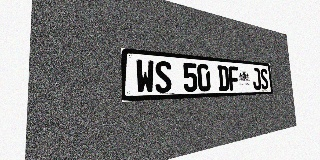0: (197, 64, 211, 92)
5: (183, 62, 198, 92)
D: (217, 65, 230, 91)
F: (228, 66, 240, 91)
J: (252, 68, 261, 90)
S: (155, 60, 172, 93), (260, 68, 269, 90)
W: (135, 59, 155, 94)
